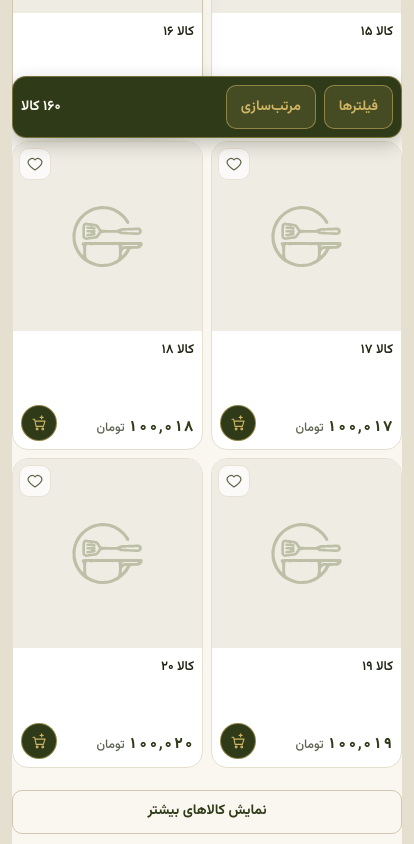
Test: phone «نمایش کالاهای بیشتر» › keeps the button and shows a notice when the client request fails
The image size is (414, 844).
(page scrolled)
Click the button with class "shop__load-more" at x=207, y=812, box [12,790,402,834]
(page scrolled)
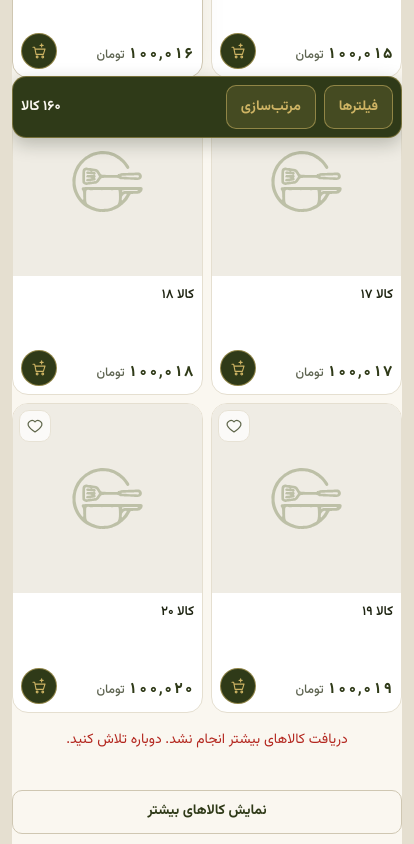
Result: the message "دریافت کالاهای بیشتر انجام نشد. دوباره تلاش کنید." is shown at [66,729,348,751]
